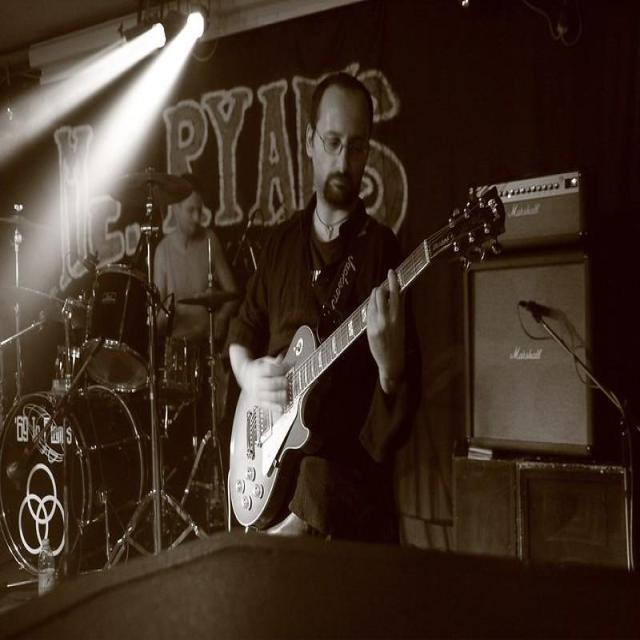guitar: (229, 302, 367, 528)
